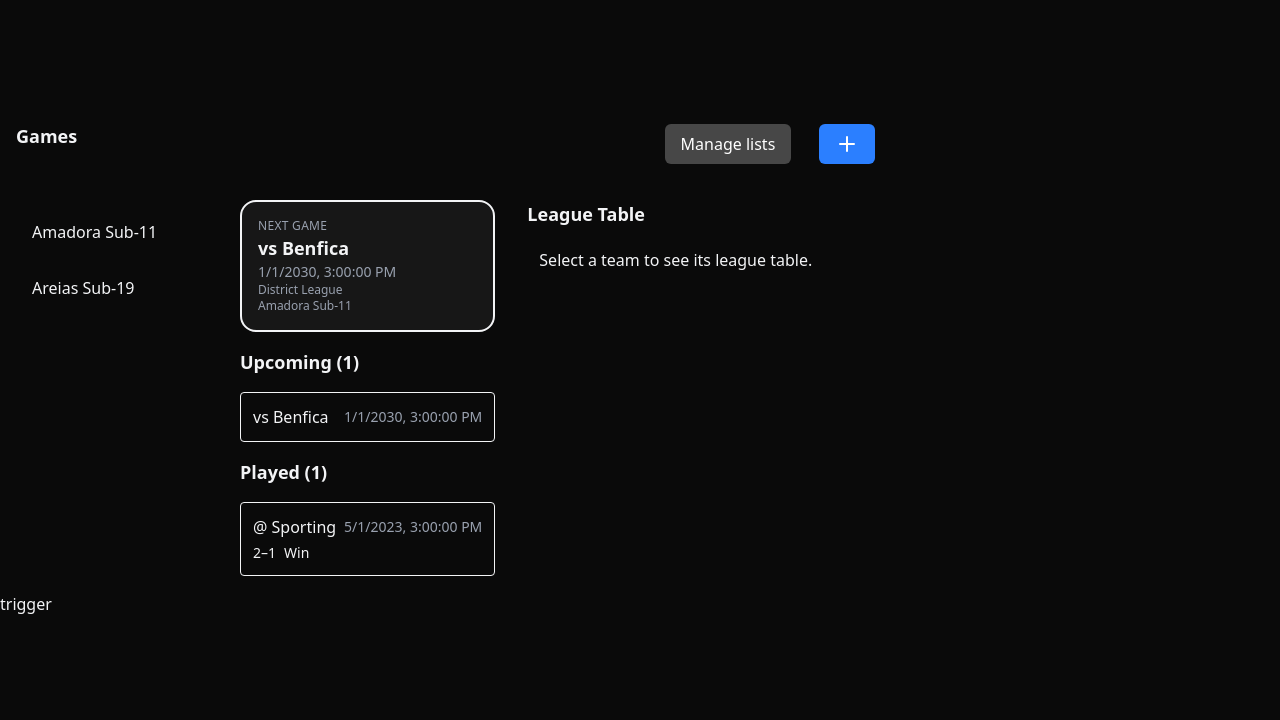
creating a game refreshes the Upcoming list without a manual reload
This screenshot has width=1280, height=720.
Expected: the button "Amadora Sub-11" is shown, [16, 208, 208, 256]
Click the 2nd button at (847, 144), box [819, 124, 875, 164]
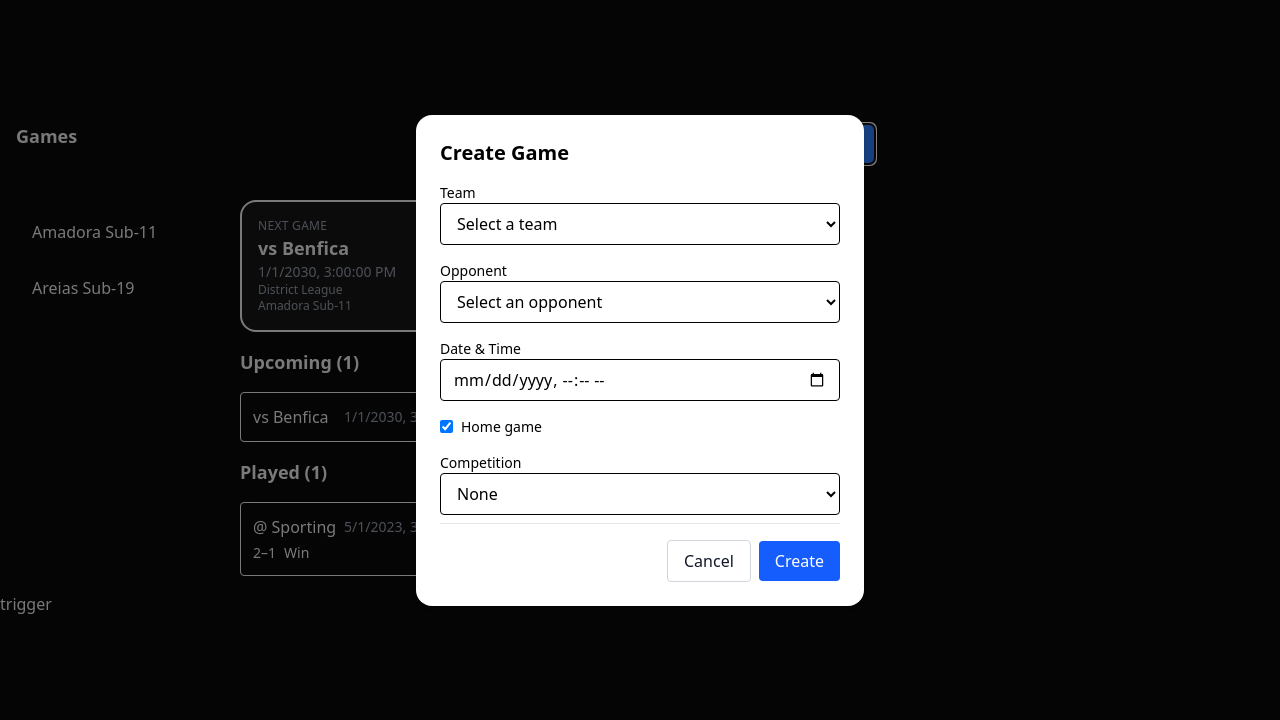
Select "Amadora Sub-11" in the dropdown named "teamId" at (640, 224), box [440, 202, 840, 244]
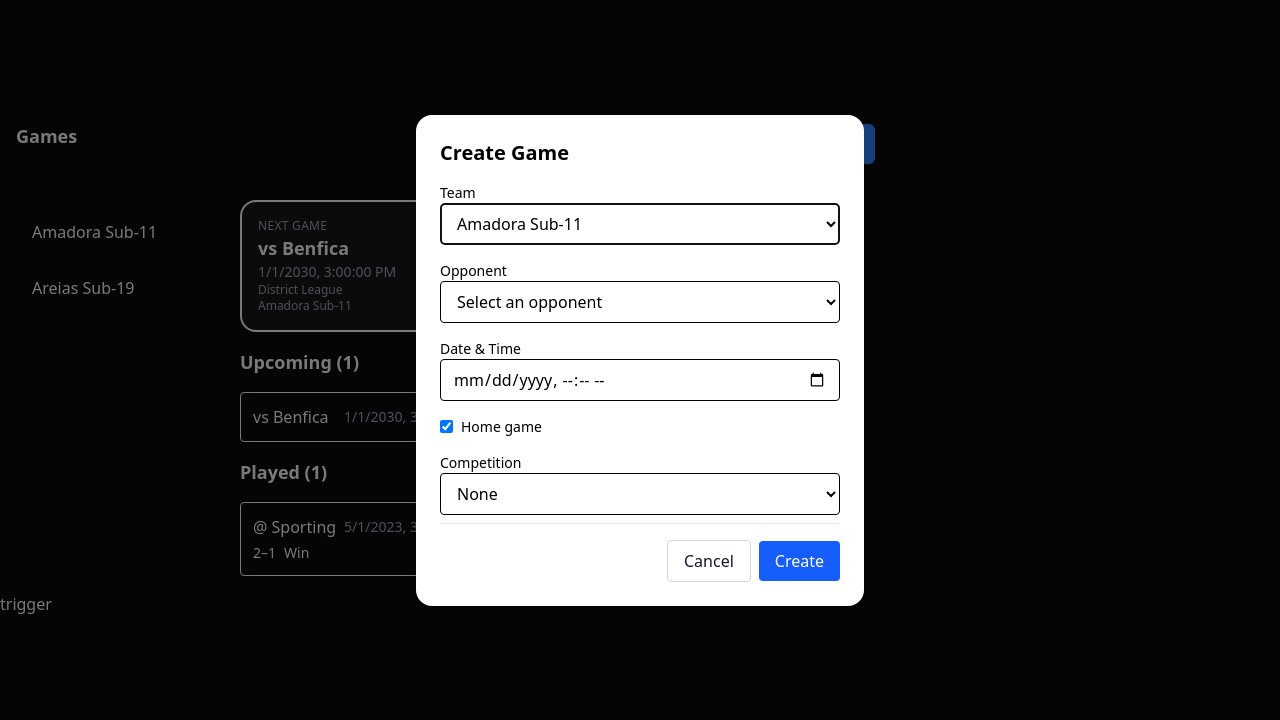
Select "Sporting" in the dropdown labelled "Opponent" at (640, 302), box [440, 280, 840, 322]
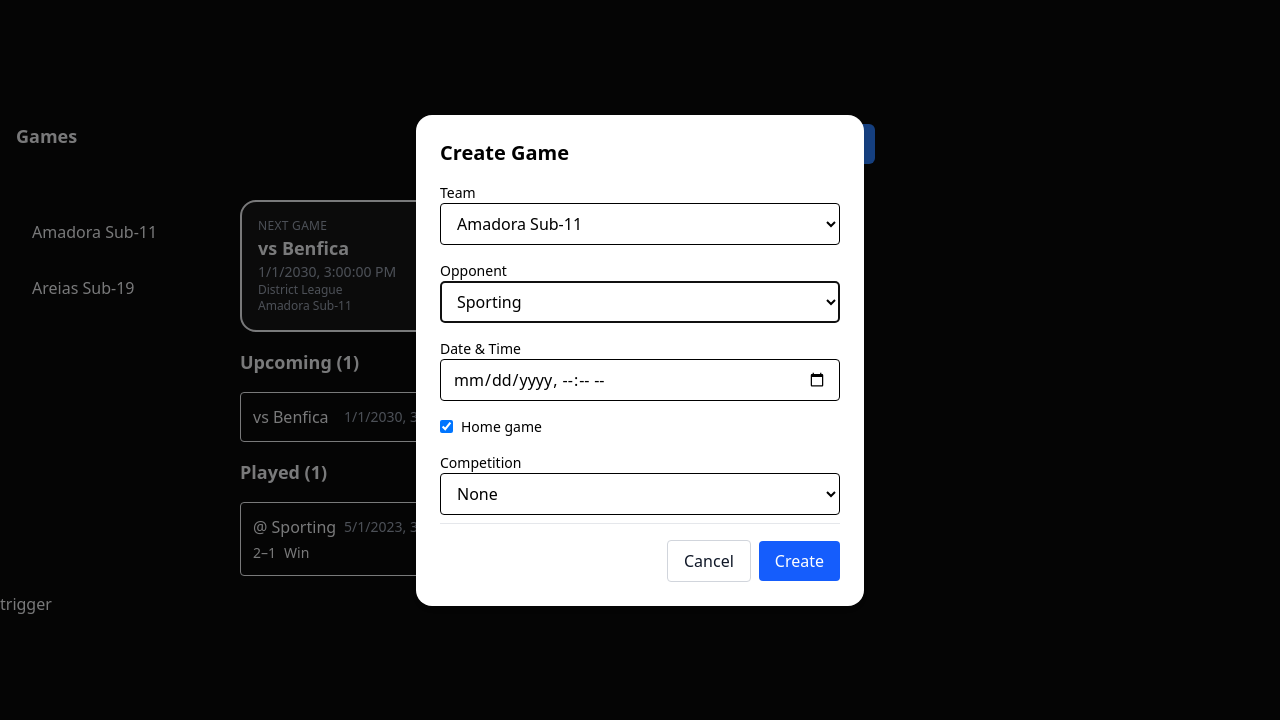
Type "2027-01-01T10:00" into the field at (640, 380), box [440, 358, 840, 400]
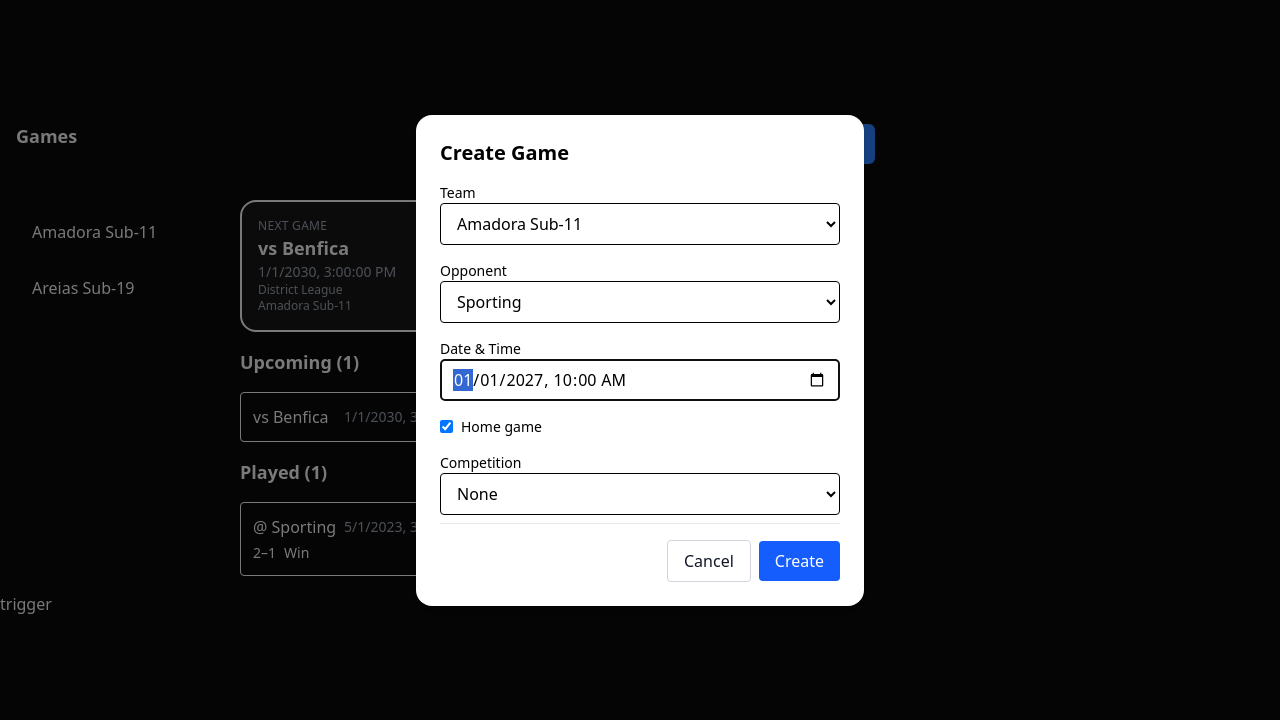
Click the button "Create" at (799, 560), box [759, 540, 840, 580]
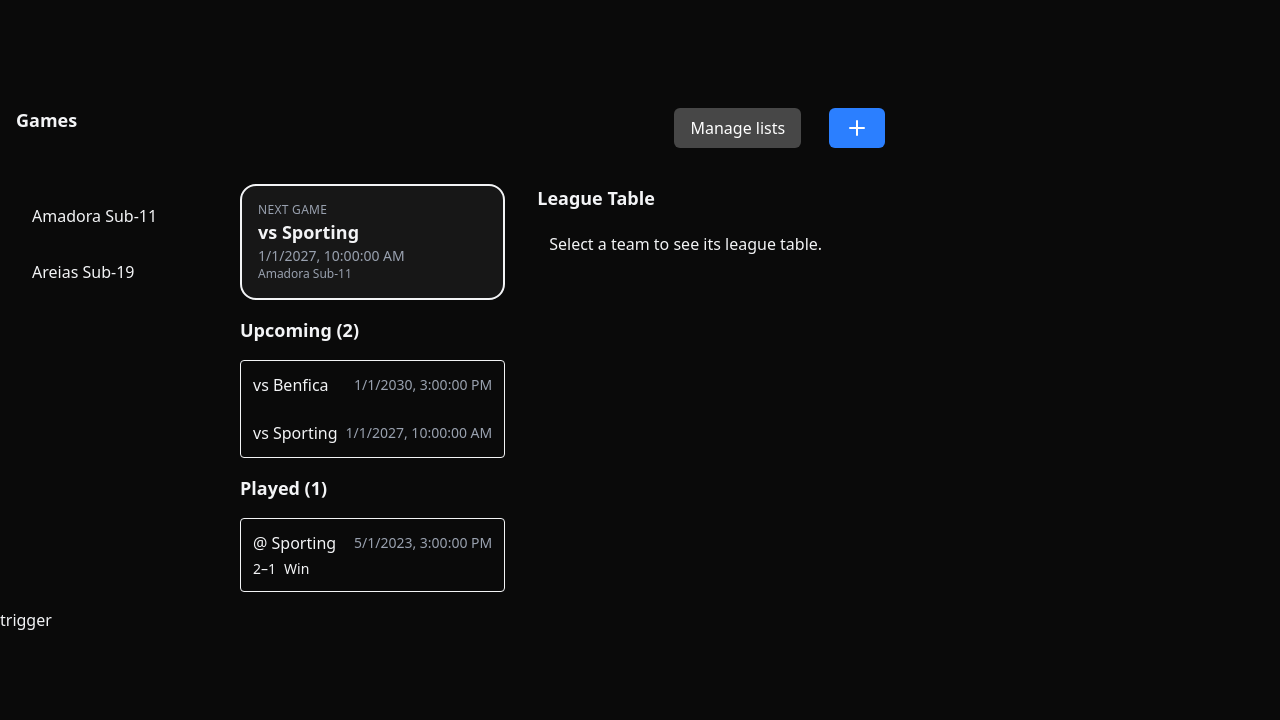
Expected: the text "vs Sporting" below "Benfica" is shown, [273, 422, 338, 444]
